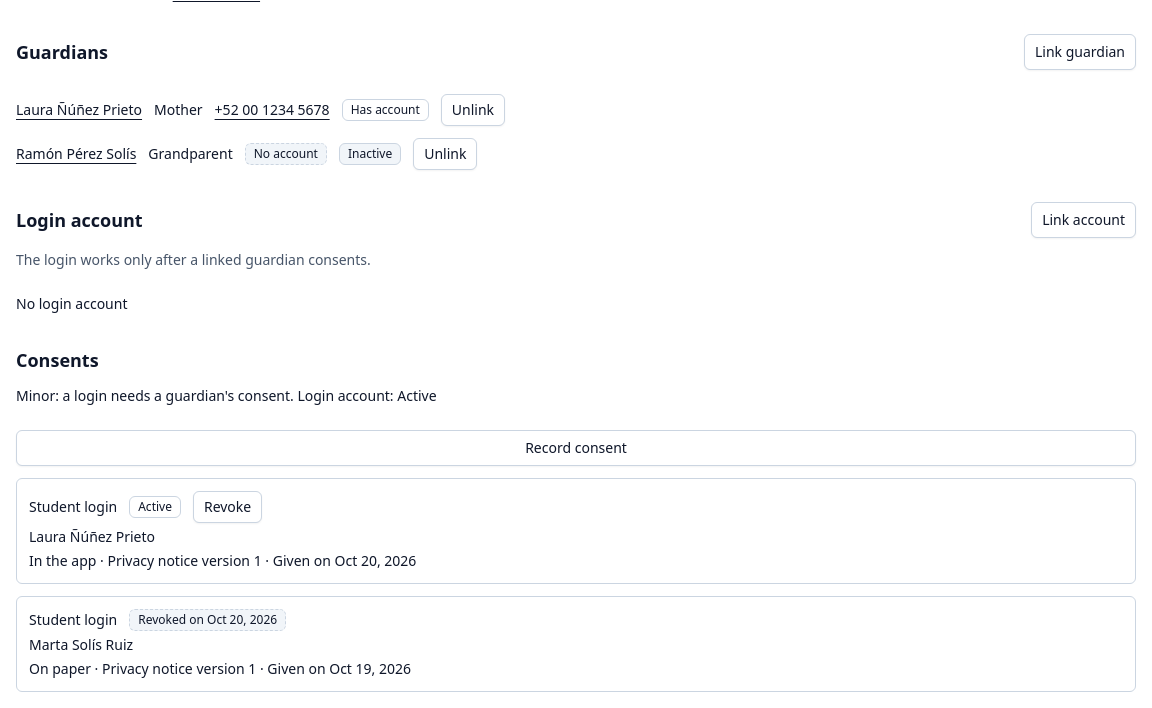
Test: staff (I2) › shows the summary, the records and offers only can_record scopes
This screenshot has width=1152, height=708.
(page scrolled)
Click the button "Record consent". click: point(576, 448)
box: [16,430,1136,466]
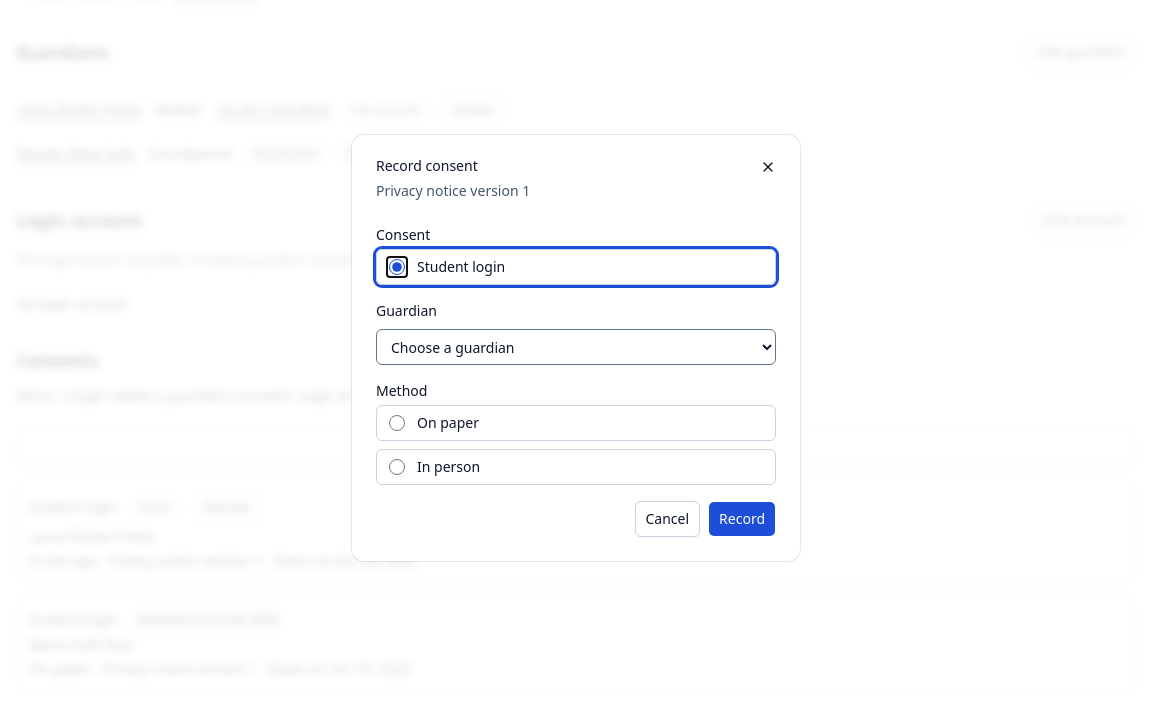
Now the dialog shows "Privacy notice version 1", box [376,181,530,200]
